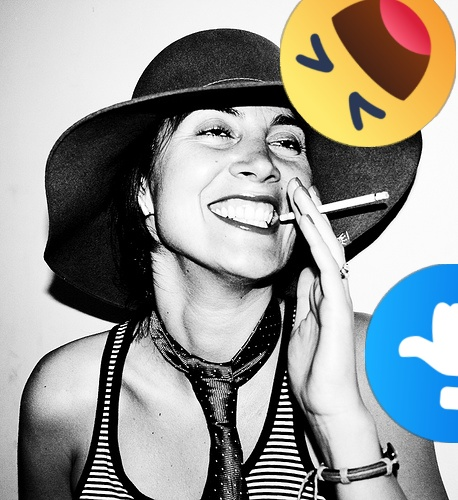haha: (280, 0, 456, 147)
like: (365, 264, 458, 443)
